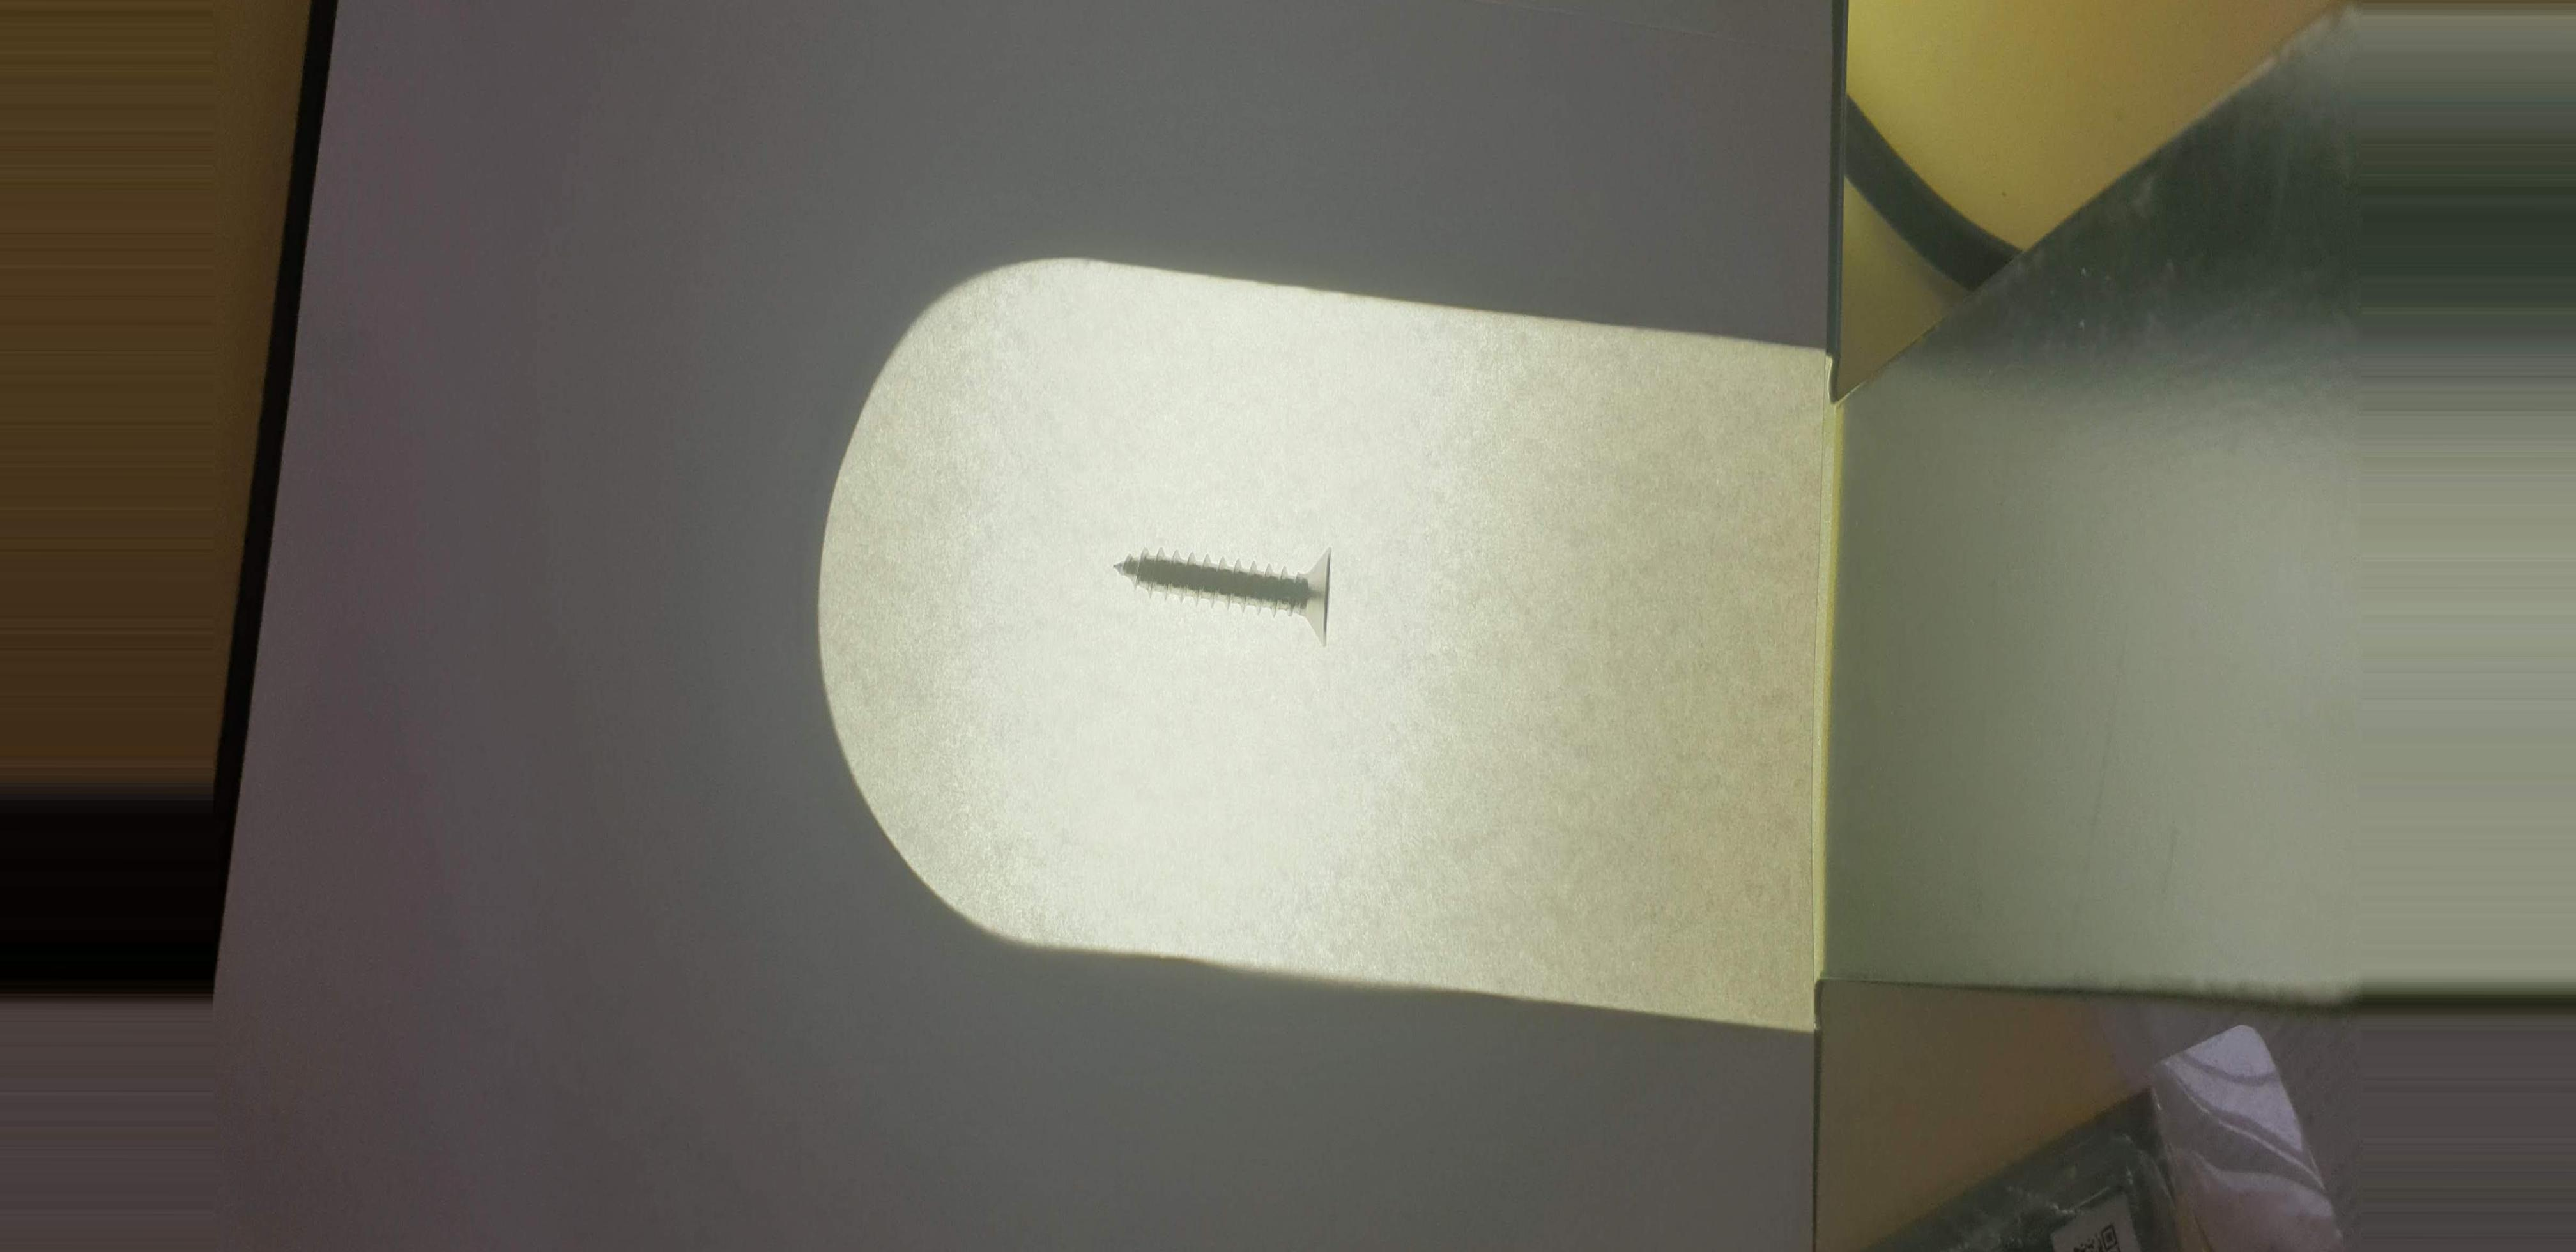S004: (1106, 518, 1396, 667)
